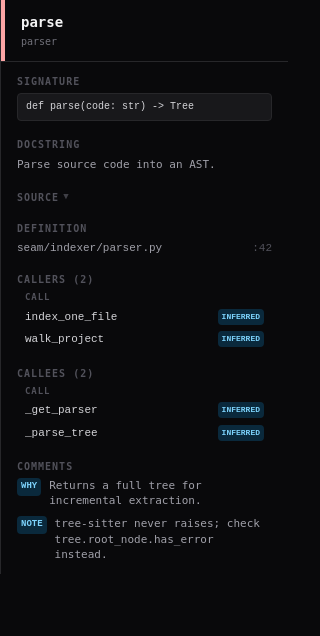
Scenario: DetailPanel B4 — Source section: found branch › shows the source code when expanded
Expected: the heading "parse" is shown, [21, 14, 63, 30]
Click the button "Source ▼". click: (144, 197)
box: [17, 190, 272, 205]
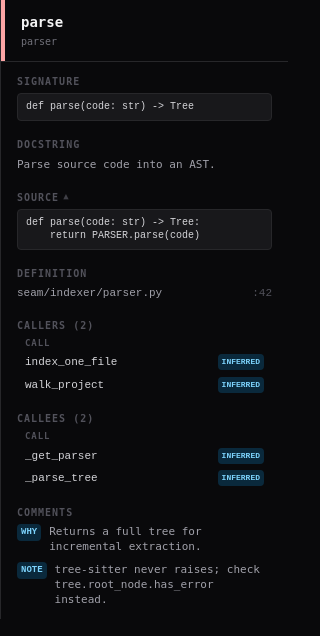
Result: the text "def parse(code: str) -> Tree: return PARSER.parse(code)" is shown at [17, 209, 272, 250]
